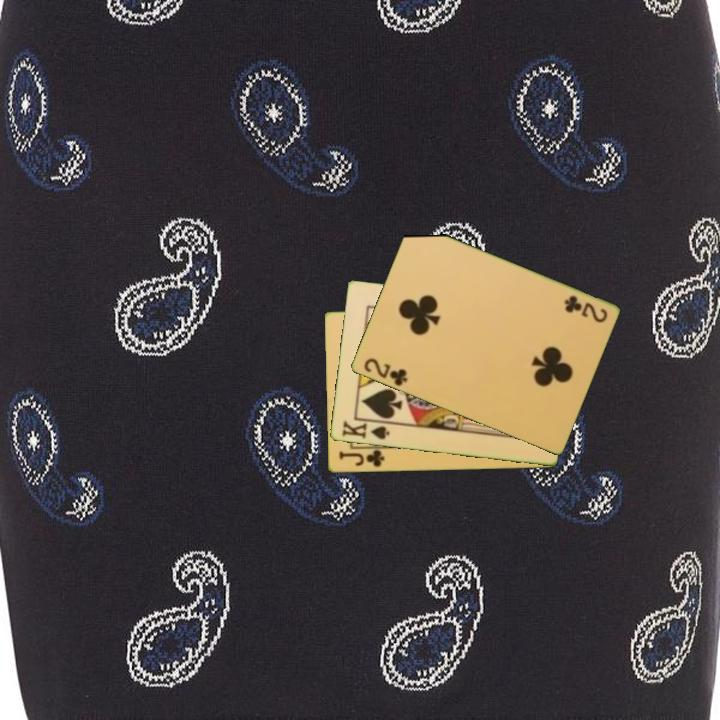2c: (360, 354, 410, 389), (560, 292, 610, 326)
Jc: (335, 446, 387, 470)
Ks: (338, 416, 394, 443)
